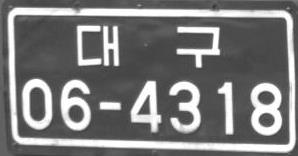0: (20, 77, 53, 129)
1: (212, 80, 244, 135)
3: (168, 80, 200, 133)
4: (130, 79, 162, 133)
6: (60, 79, 91, 131)
8: (249, 81, 282, 135)
대구_D: (76, 23, 220, 68)
